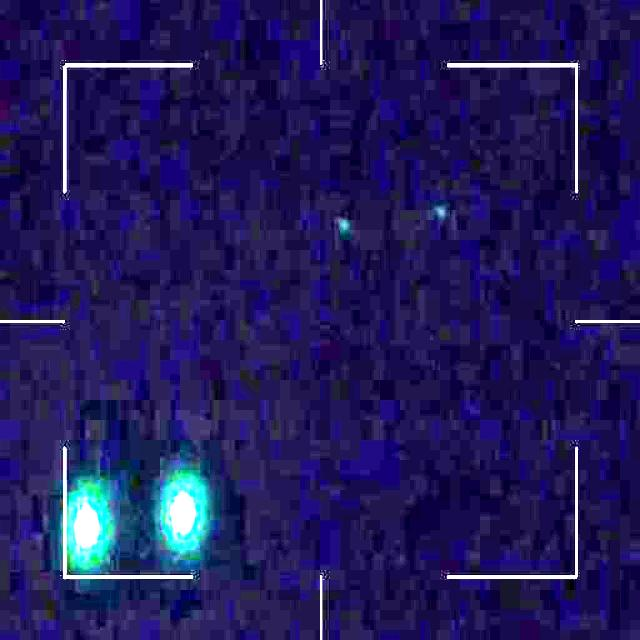bird: (70, 482, 202, 556)
